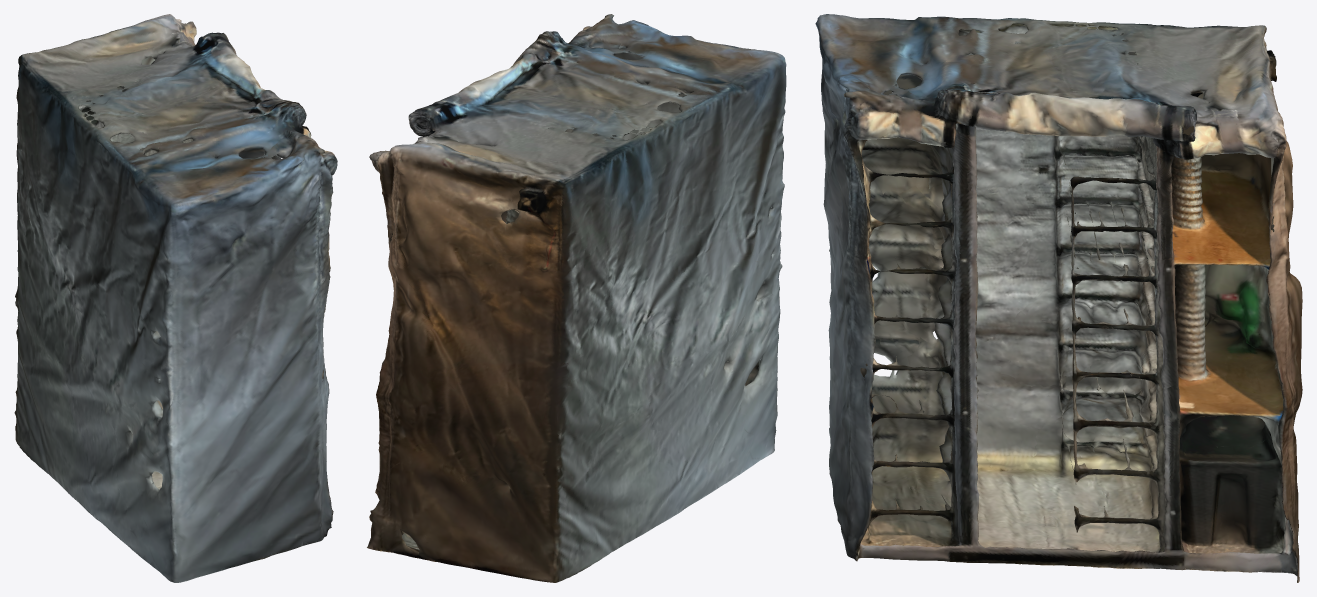
Rendered from Chamber.glb.
3 renders of one model, left to right at view 1: azimuth 30°, elevation 25°; view 2: azimuth 150°, elevation 25°; view 3: azimuth 270°, elevation 25°, orthographic. The views are drawn at different scales.
Visible parts, largest first — view 1: 3DModel.001; view 2: 3DModel.001; view 3: 3DModel.001.
Boxes of the visible parts, x1,y1,x2,y2 form: 3DModel.001: (14,14,337,582); 3DModel.001: (367,14,786,582); 3DModel.001: (815,14,1302,582).
Bounding box in the file's own units: 129 × 229 × 211.
2 materials, 1 textured.
